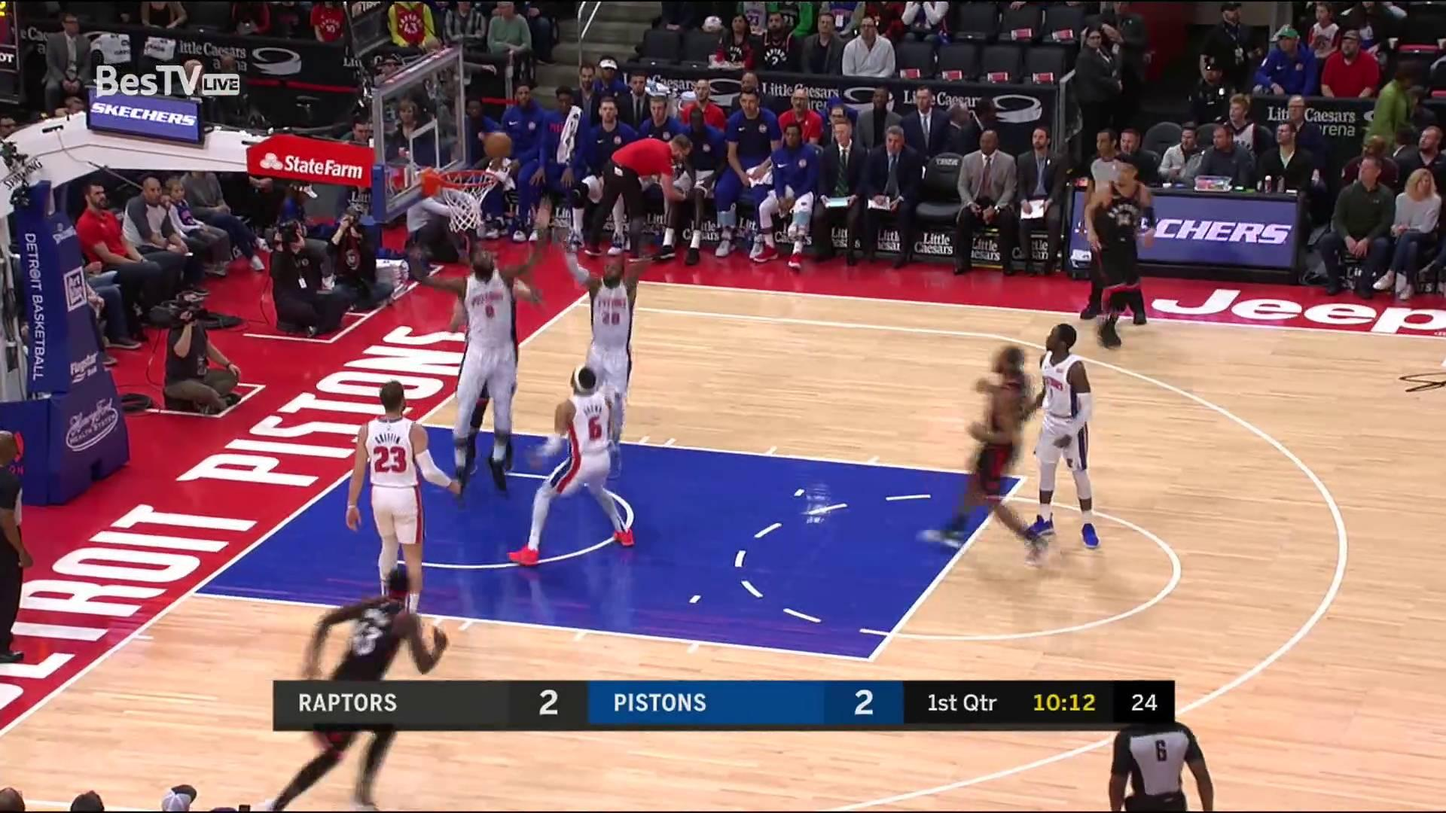basketball: (482, 130, 511, 162)
